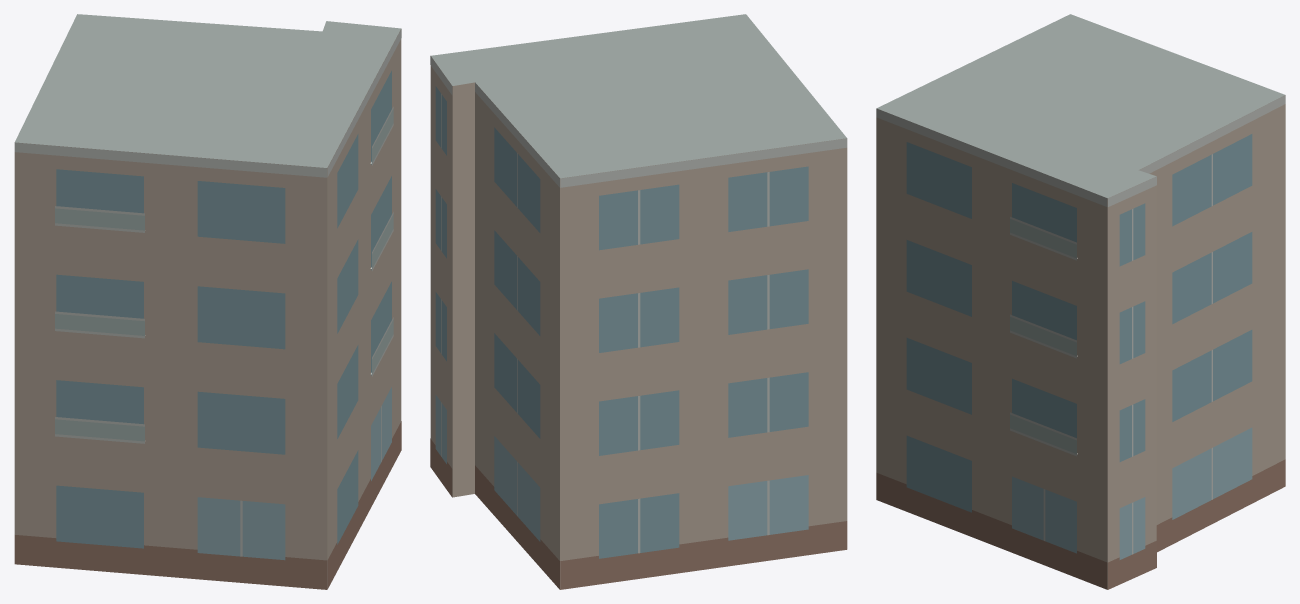
The model's file is survey-upis-32891919.glb.
3 views of the same model, side by side, from view 1: azimuth 30°, elevation 25°; view 2: azimuth 150°, elevation 25°; view 3: azimuth 270°, elevation 25° (orthographic). The views are drawn at different scales.
Visible parts, largest first — view 1: survey-upis-32891919.tmp; view 2: survey-upis-32891919.tmp; view 3: survey-upis-32891919.tmp.
Boxes of the visible parts, bbox=[...] form: survey-upis-32891919.tmp: bbox=[14, 14, 401, 589]; survey-upis-32891919.tmp: bbox=[430, 14, 847, 589]; survey-upis-32891919.tmp: bbox=[876, 14, 1285, 589].
Size of the model in its own units: 10.71 by 10.6 by 10.05.
